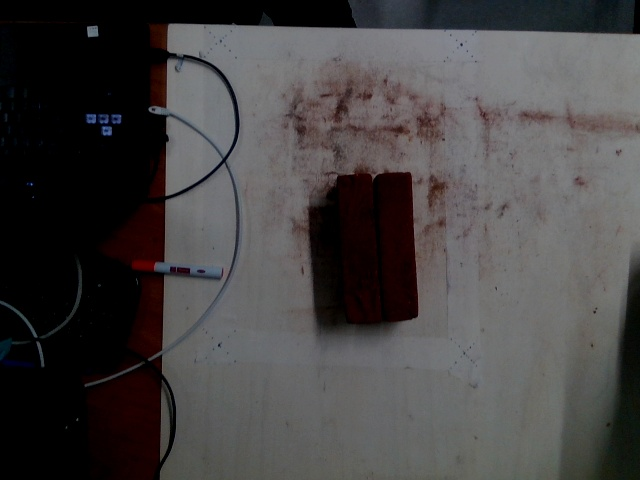brick-side: (374, 173, 419, 318), (337, 176, 381, 320)
